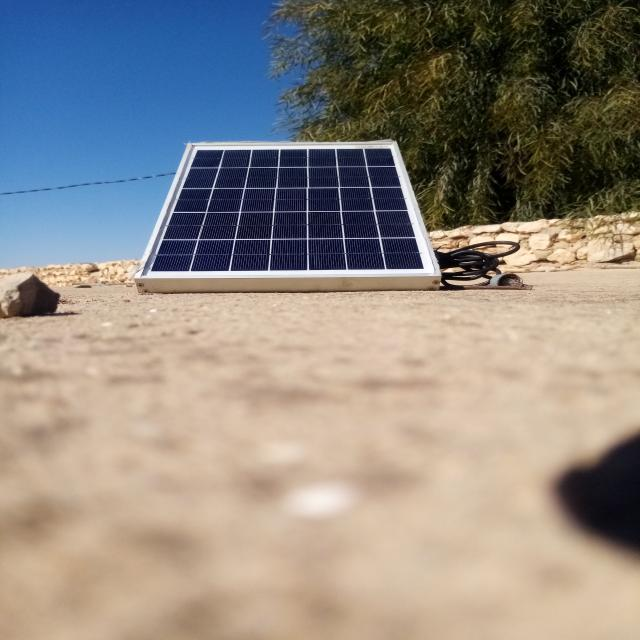Normal Solar Panel: (135, 142, 435, 277)
